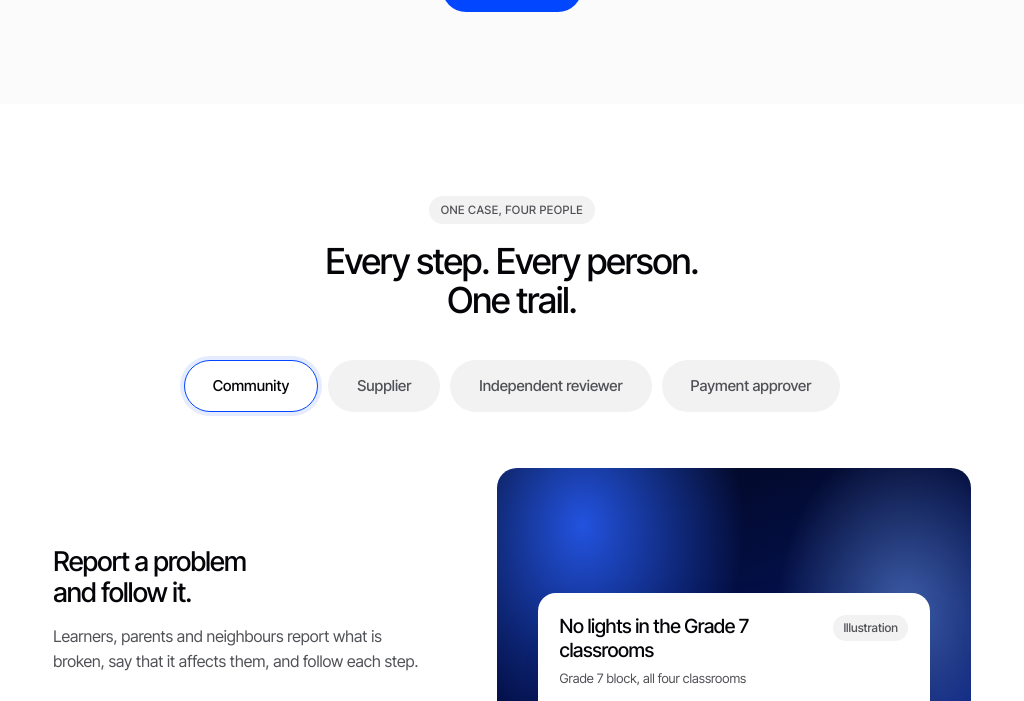
home page › shows the four people as tabs that the arrow keys move between
(page scrolled)
Press ArrowRight in the tab "Community", box top-left (184, 360), bottom-right (318, 412)
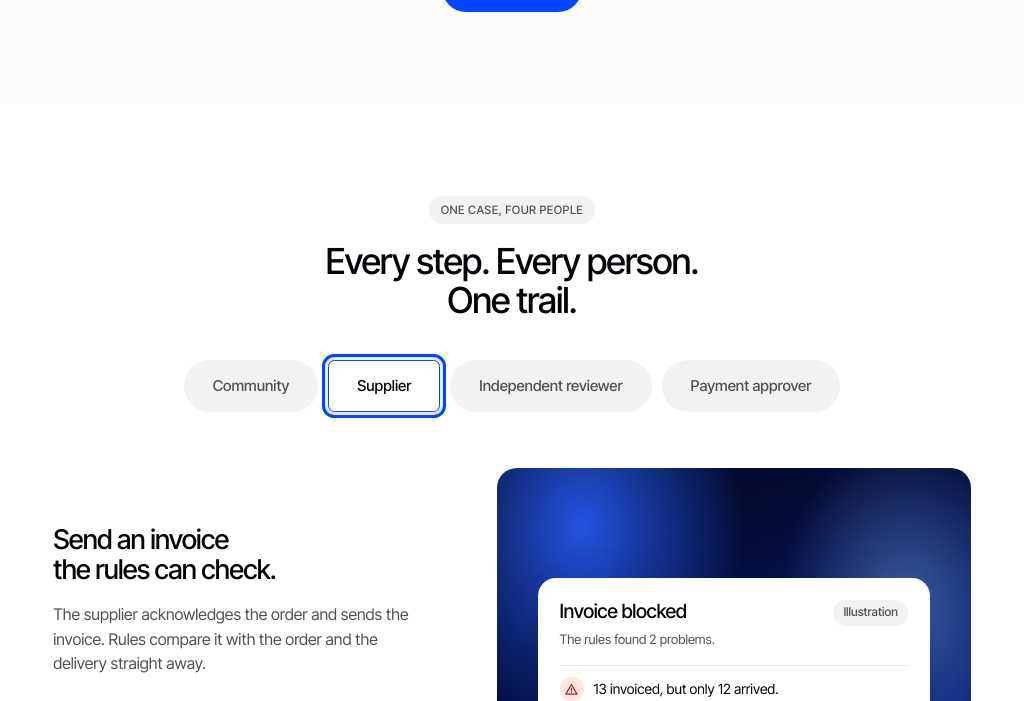
Now the tab "Supplier" is selected
Now the tab "Community" has attribute tabindex="-1", box top-left (184, 360), bottom-right (318, 412)
Press End in the tab "Supplier", box top-left (328, 360), bottom-right (440, 412)
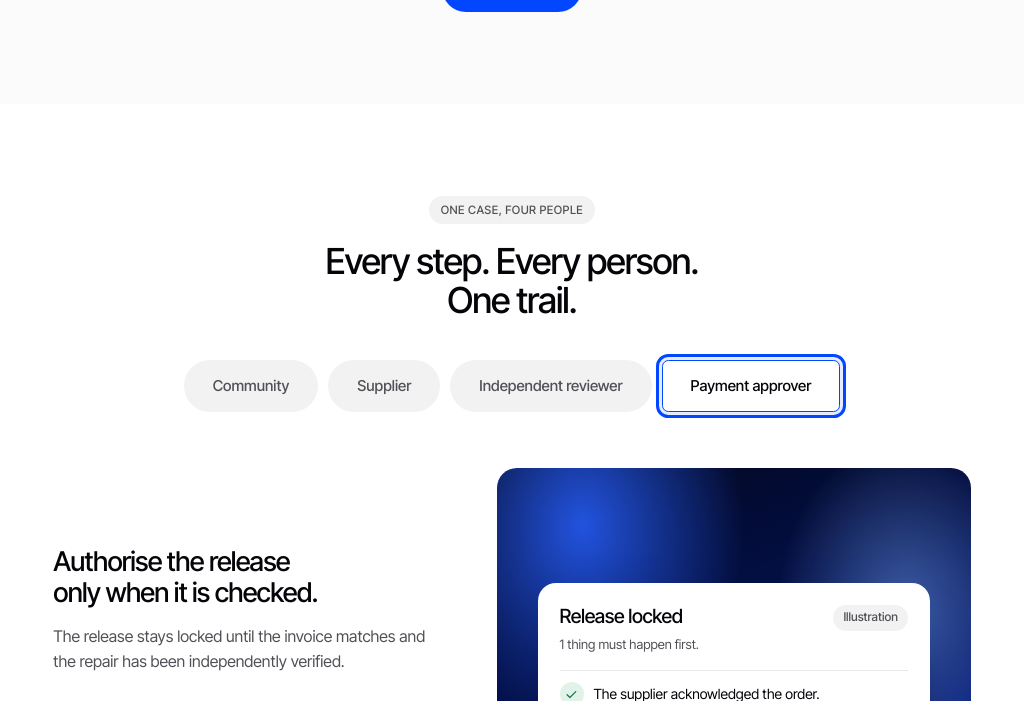
Press ArrowRight in the tab "Payment approver", box top-left (662, 360), bottom-right (840, 412)
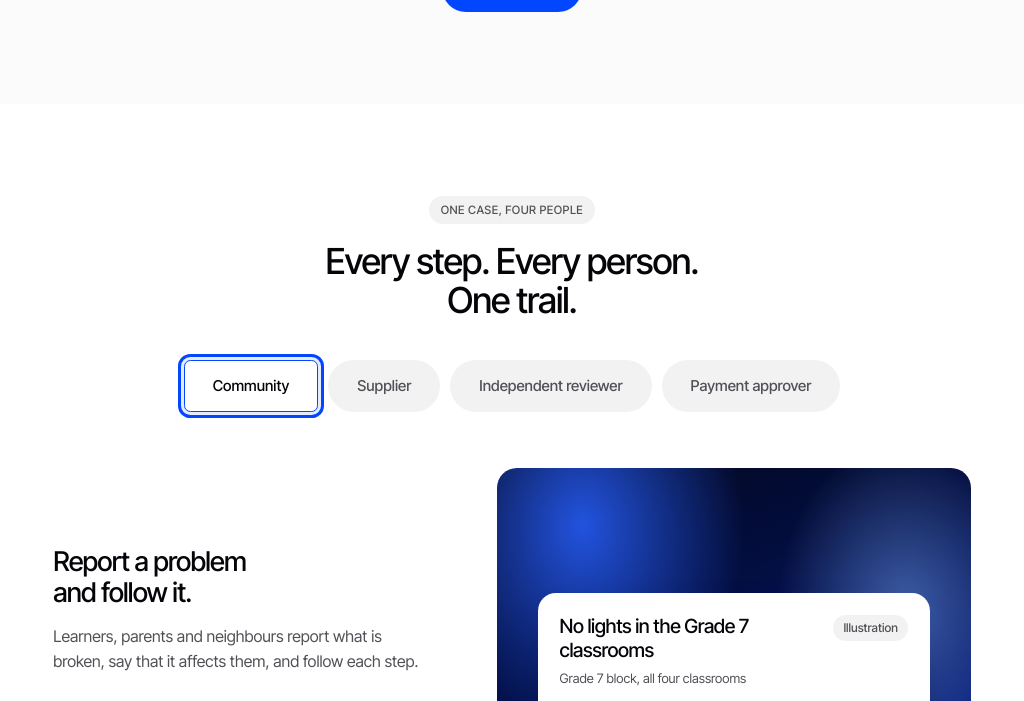
Click the tab "Independent reviewer" at (551, 386), box top-left (450, 360), bottom-right (652, 412)
(page scrolled)
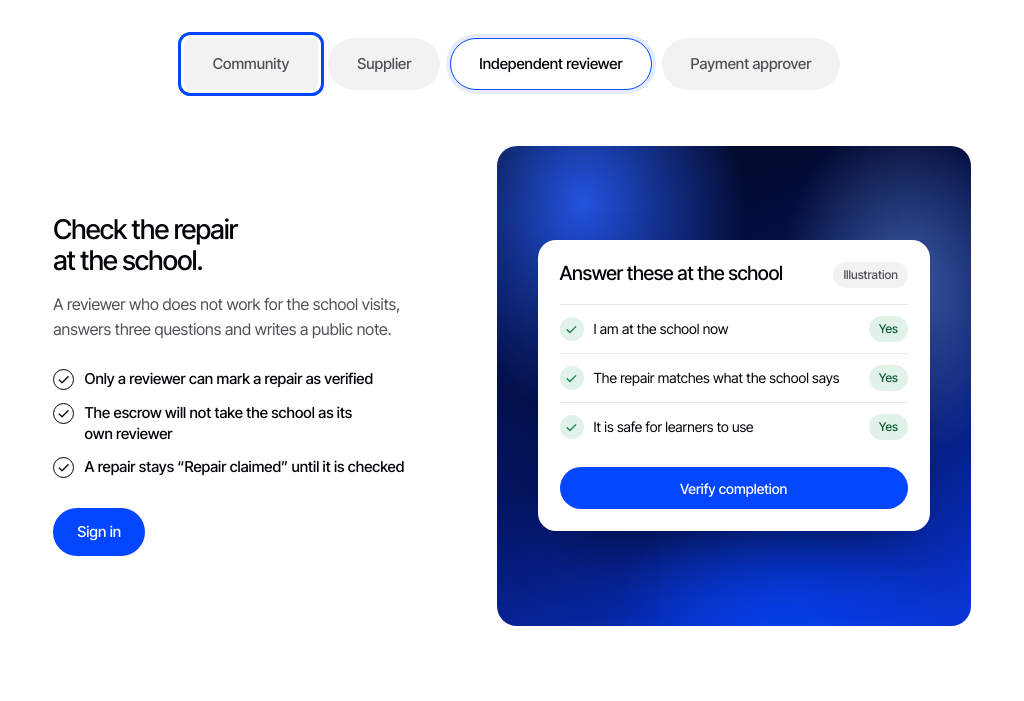
Now the panel named "Independent reviewer" shows "Only a reviewer can mark a repair as verified", box top-left (84, 369), bottom-right (373, 388)
